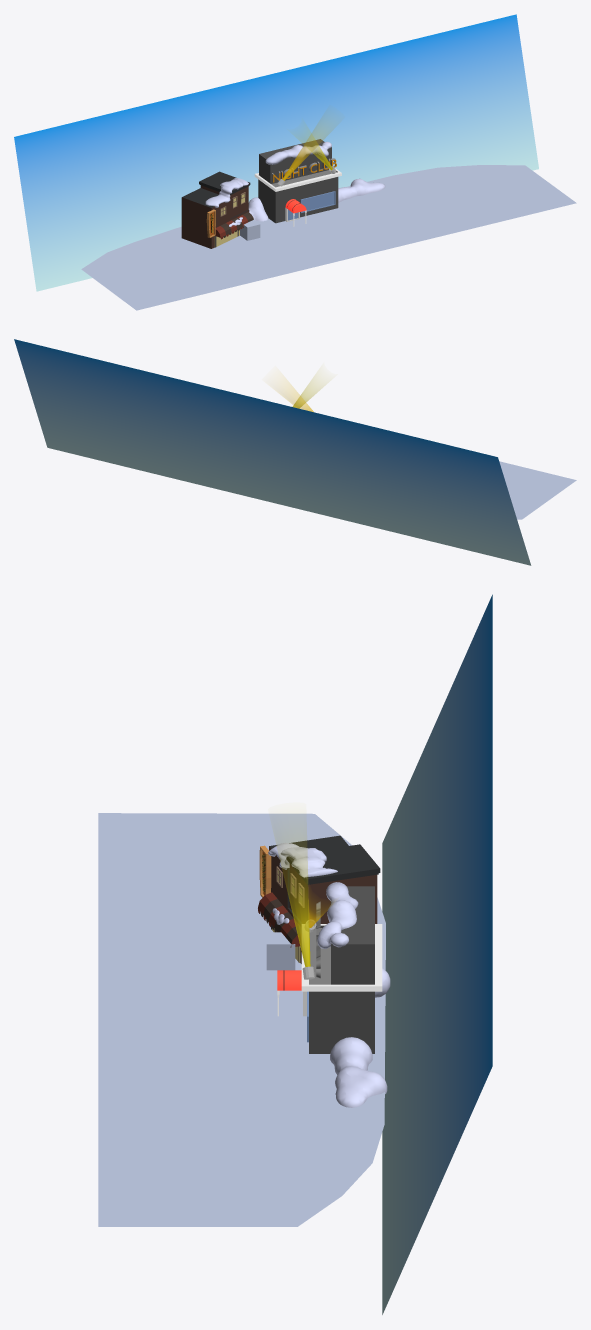
File: town.glb
3 views of the same model, one above another, from view 1: azimuth 30°, elevation 25°; view 2: azimuth 150°, elevation 25°; view 3: azimuth 270°, elevation 25° (orthographic). The views are drawn at different scales.
Visible parts, largest first — view 1: Plane, ground, ground-clickable, coffee-shop, club, second-floor, snow, snow-3, light-bucket, snow-2, window, coffee-shop-cover (+2 smaller); view 2: Plane, ground, light-bucket, light-bucket-2; view 3: ground, ground-clickable, Plane, club, coffee-shop, second-floor, snow, light-bucket-2, snow-3, snow-2, coffee-shop-cover, coffee-shop-clickable.
Boxes of the visible parts, x1,y1,x2,y2 form: Plane: (14,14,538,291); ground: (81,165,576,310); ground-clickable: (102,171,575,307); coffee-shop: (181,171,250,248); club: (254,167,341,223); second-floor: (259,139,331,183); snow: (248,178,385,221); snow-3: (265,141,331,164); light-bucket: (277,123,329,186); snow-2: (205,178,248,207); window: (300,191,335,212); coffee-shop-cover: (215,212,253,239); Plane: (14,339,531,565); ground: (499,461,576,519); light-bucket: (278,382,313,411); light-bucket-2: (292,376,324,408); ground: (98,813,385,1226); ground-clickable: (98,822,361,1226); Plane: (382,594,492,1314); club: (301,924,382,1053); coffee-shop: (269,835,380,963); second-floor: (331,886,374,984); snow: (330,968,390,1107); light-bucket-2: (277,842,314,979); snow-3: (317,882,358,948); snow-2: (268,842,337,877); coffee-shop-cover: (258,892,301,947); coffee-shop-clickable: (266,932,295,970).
Size of the model in its own units: 79.06 by 21.64 by 27.54.
Materials: 25 (1 with a texture image).
